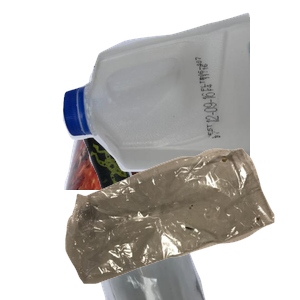glass: (81, 120, 300, 300)
metal: (62, 47, 300, 227)
plastic: (60, 10, 300, 175)
trash: (63, 145, 300, 300)
